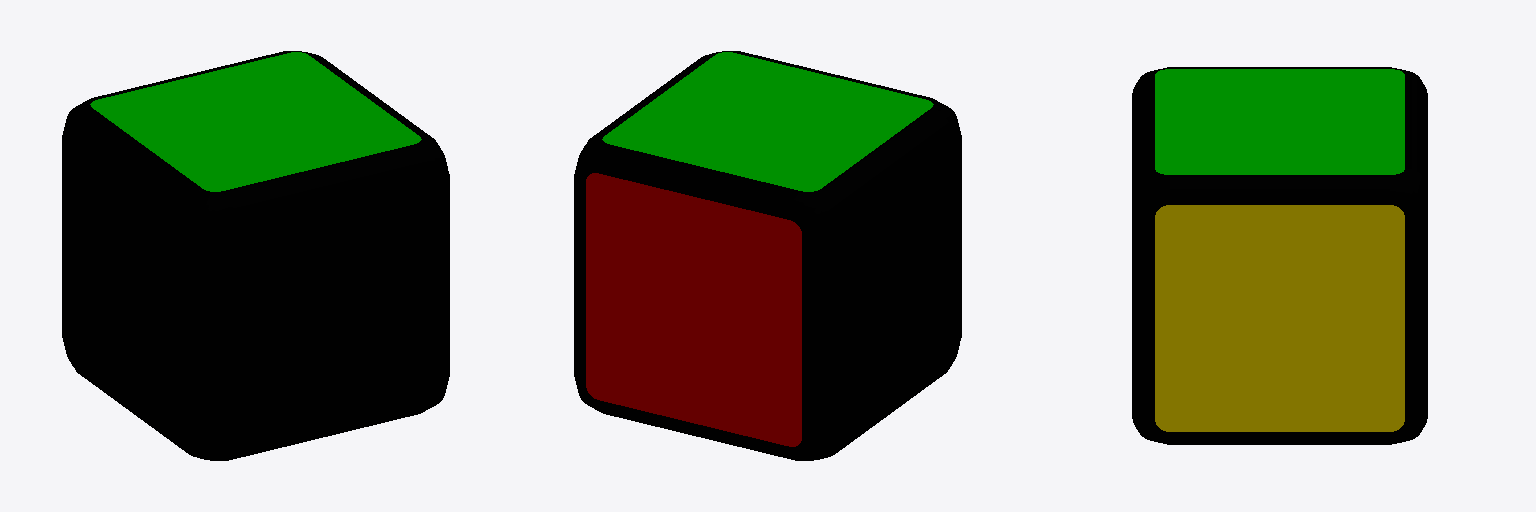
File: corner_rgy.obj
3 views of the same model, side by side, from view 1: azimuth 30°, elevation 25°; view 2: azimuth 150°, elevation 25°; view 3: azimuth 270°, elevation 25° (orthographic).
Parts seen in each view (by area): view 1: Cube; view 2: Cube; view 3: Cube.
Boxes of the visible parts, box(x1,y1,x2,y2) form: Cube: box(62, 51, 449, 460); Cube: box(574, 51, 961, 460); Cube: box(1132, 67, 1427, 444).
Size of the model in its own units: 2 by 2 by 2.